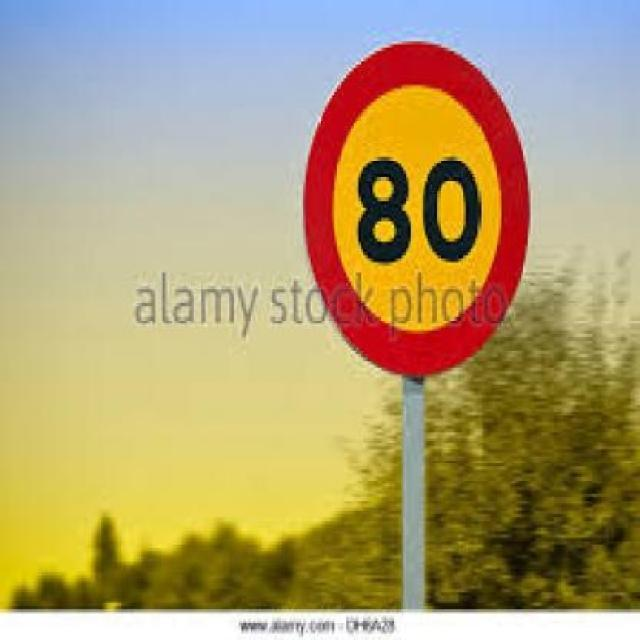forb_speed_over_80: (329, 68, 511, 354)
